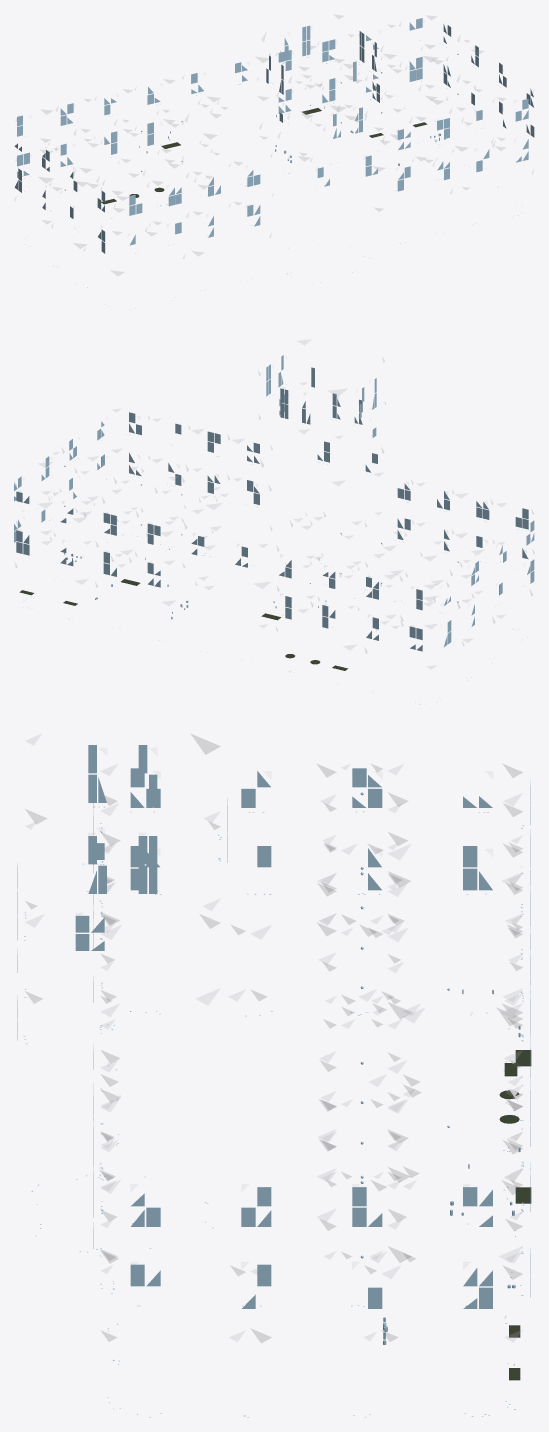
Rendered from SM_Abandoned_Interior_Glass_NoCol.fbx.
The picture shows the model from 3 angles, top to bottom: view 1: azimuth 30°, elevation 25°; view 2: azimuth 150°, elevation 25°; view 3: azimuth 270°, elevation 25°; orthographic projection. The views are drawn at different scales.
Visible parts, largest first — view 1: SM_Abandoned_Interior_Glass_NoCol; view 2: SM_Abandoned_Interior_Glass_NoCol; view 3: SM_Abandoned_Interior_Glass_NoCol.
Part boxes in pixels (x1=…): SM_Abandoned_Interior_Glass_NoCol: x1=14, y1=15, x2=534, y2=310; SM_Abandoned_Interior_Glass_NoCol: x1=14, y1=339, x2=534, y2=704; SM_Abandoned_Interior_Glass_NoCol: x1=17, y1=734, x2=531, y2=1417.
Size of the model in its own units: 39.35 by 19.21 by 20.38.
